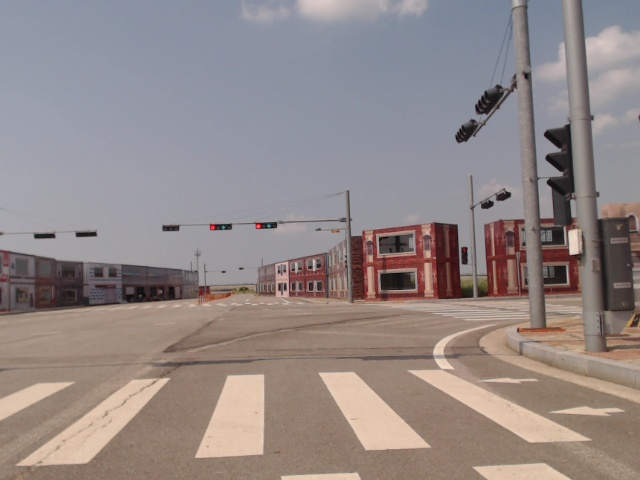left_green_4: (256, 223, 277, 230), (210, 224, 232, 230)
